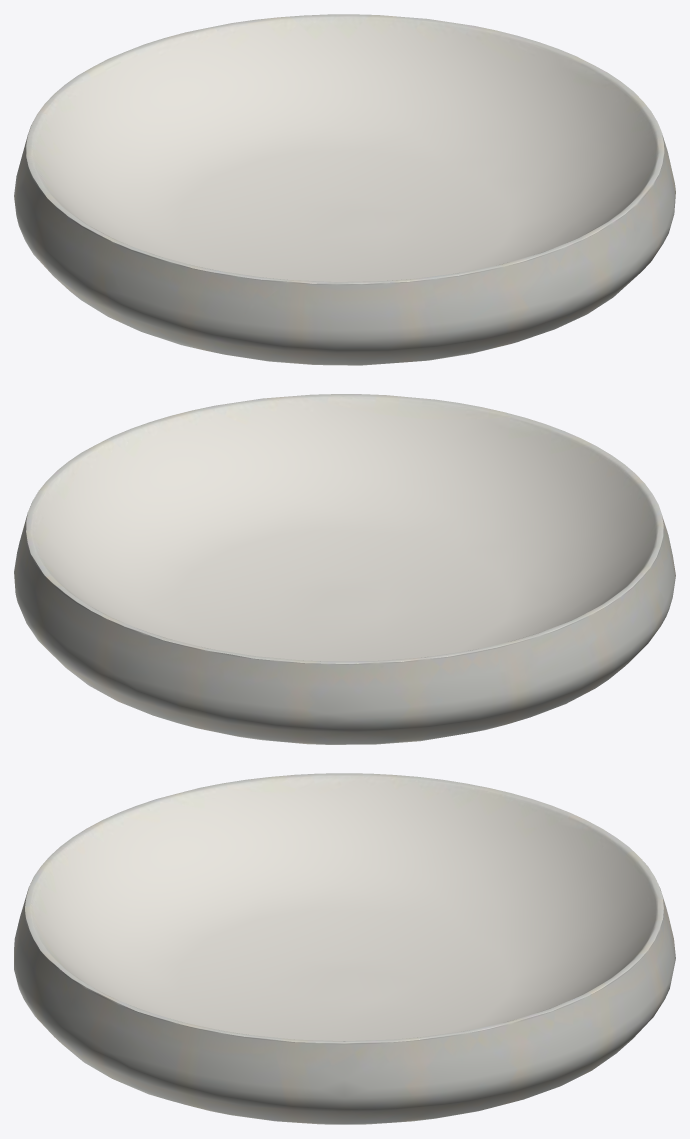
File: aftonhaj_miska_00620217.glb
3 renders of one model, top to bottom at view 1: azimuth 30°, elevation 25°; view 2: azimuth 150°, elevation 25°; view 3: azimuth 270°, elevation 25°, orthographic.
Parts seen in each view (by area): view 1: aftonhaj_miska_00620217; view 2: aftonhaj_miska_00620217; view 3: aftonhaj_miska_00620217.
Boxes of the visible parts, x1,y1,x2,y2 form: aftonhaj_miska_00620217: (14, 14, 675, 365); aftonhaj_miska_00620217: (14, 394, 675, 744); aftonhaj_miska_00620217: (14, 773, 675, 1124).
Bounding box in the file's own units: 0.2593 × 0.0404 × 0.2589.
1 material, 1 textured.
